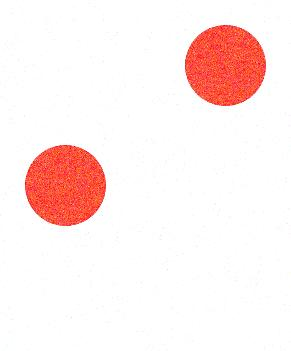I: (18, 19, 270, 335)
